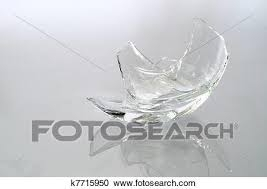glass: (85, 14, 238, 125)
